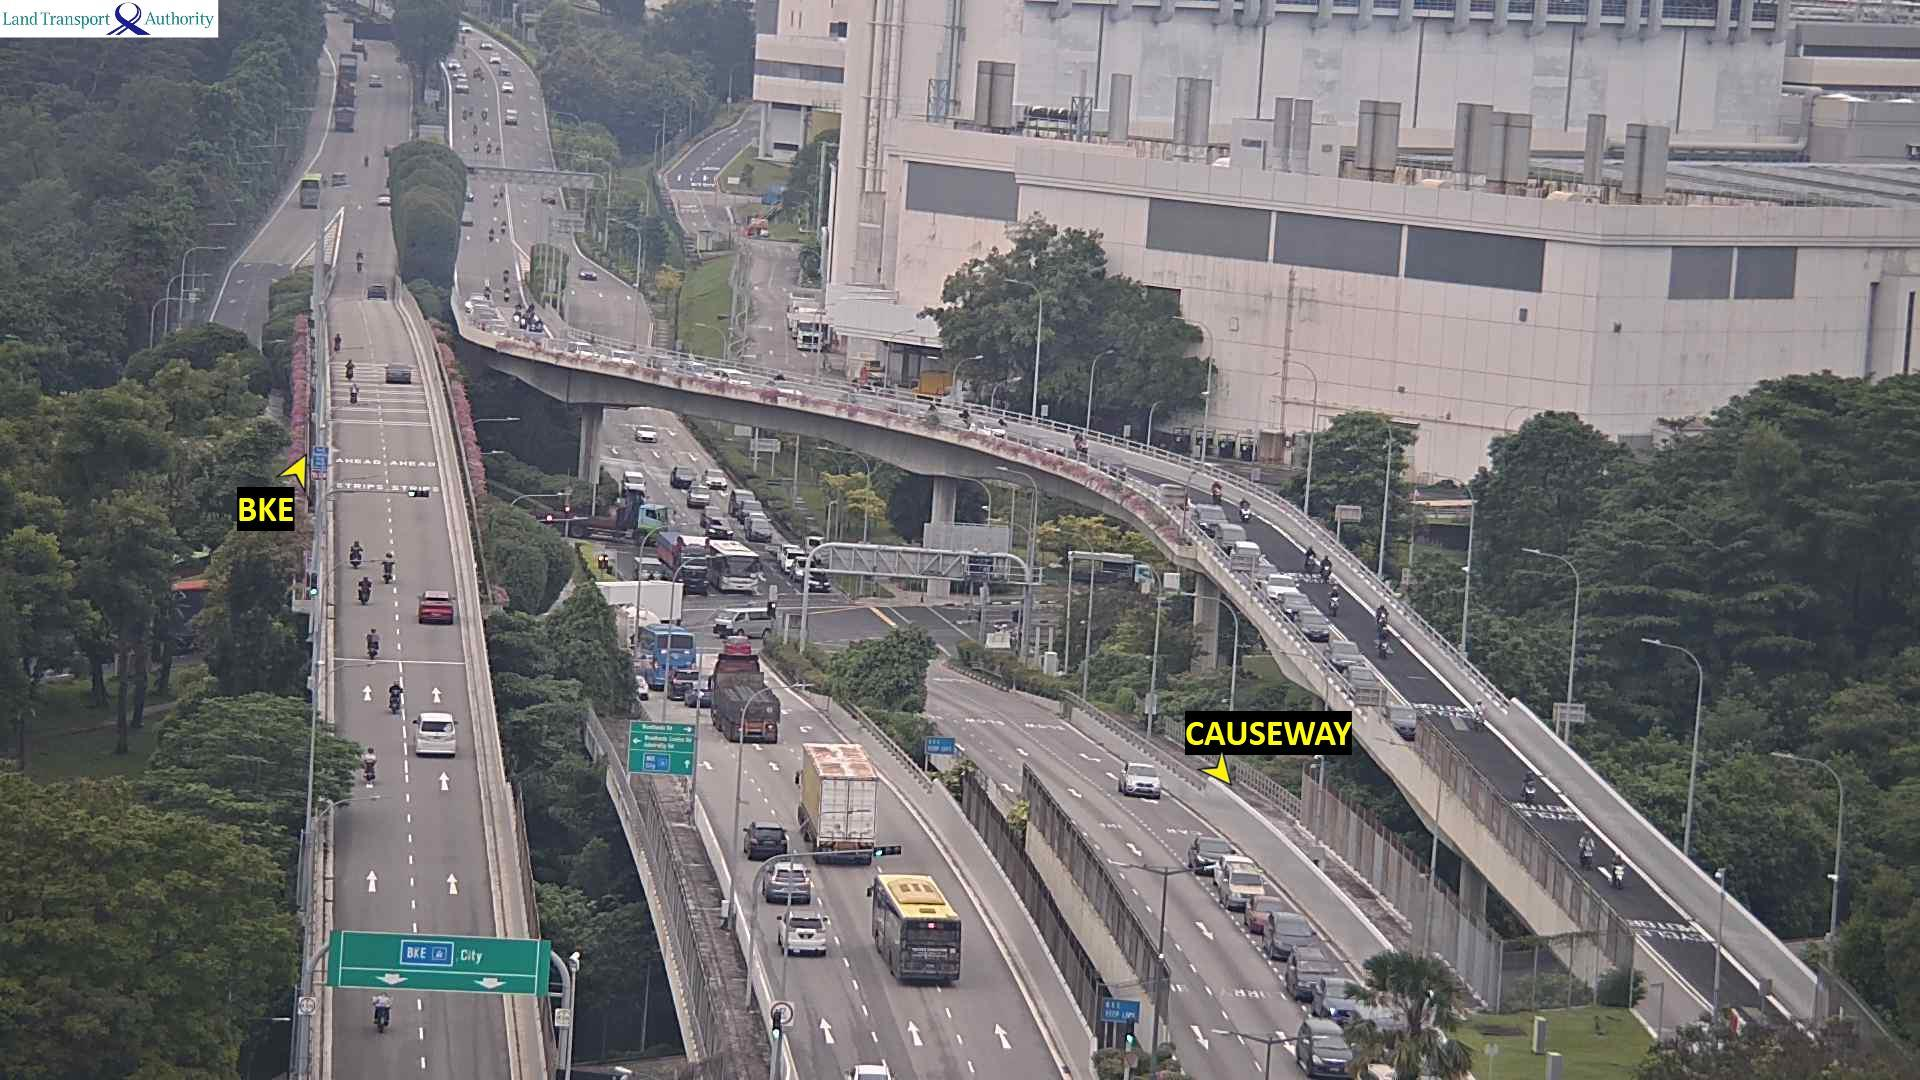vehicle-causeway-johor: (1294, 1019, 1357, 1080), (1259, 918, 1326, 964), (1217, 862, 1280, 910), (711, 540, 759, 591), (1281, 967, 1347, 1003), (1220, 541, 1276, 578), (1117, 766, 1165, 803), (1246, 903, 1297, 933), (1318, 981, 1363, 1014), (1293, 617, 1340, 642), (1190, 504, 1229, 534), (1188, 837, 1225, 868), (1384, 705, 1417, 736), (1346, 669, 1380, 699), (1327, 643, 1365, 669), (1261, 584, 1301, 608), (1159, 483, 1193, 510), (1217, 859, 1253, 878), (1099, 451, 1125, 477), (764, 379, 801, 397), (713, 367, 747, 385), (678, 360, 708, 379), (671, 462, 694, 486), (1217, 527, 1247, 545), (603, 348, 634, 365), (1579, 828, 1593, 863), (729, 490, 752, 511), (744, 520, 770, 538), (647, 354, 673, 371), (703, 470, 727, 488), (1611, 853, 1623, 888), (567, 341, 592, 357), (633, 424, 655, 442), (687, 486, 709, 504), (1473, 698, 1487, 726), (709, 519, 733, 535), (806, 571, 827, 589), (987, 420, 1006, 439), (785, 550, 803, 570), (1039, 439, 1062, 454), (793, 559, 811, 578), (740, 502, 762, 516), (1526, 773, 1536, 802), (1073, 434, 1088, 452), (920, 403, 935, 421), (1306, 547, 1317, 571), (778, 543, 795, 558), (476, 319, 503, 328), (1332, 589, 1342, 613), (956, 410, 969, 428), (1380, 632, 1391, 653), (703, 507, 719, 521), (1076, 442, 1089, 459), (1378, 603, 1389, 623), (1321, 556, 1331, 578), (1209, 480, 1220, 499), (546, 339, 562, 351), (471, 310, 492, 319), (469, 296, 486, 307), (1241, 497, 1249, 520), (509, 335, 531, 343), (488, 328, 510, 334), (524, 311, 533, 324), (534, 320, 540, 330), (504, 289, 509, 301), (514, 311, 518, 322), (486, 283, 489, 294), (505, 270, 509, 278)
vehicle-causeway-singapore: (865, 876, 959, 981), (803, 742, 871, 866), (719, 657, 777, 743), (631, 628, 704, 677), (758, 876, 820, 907), (785, 934, 839, 959), (748, 827, 791, 858), (669, 669, 701, 699), (412, 739, 456, 760), (415, 716, 453, 740), (419, 597, 452, 624), (847, 1066, 897, 1080), (367, 1000, 385, 1035), (386, 363, 412, 384), (688, 688, 711, 708), (363, 746, 375, 779), (381, 552, 392, 579), (391, 694, 403, 716), (356, 548, 370, 565), (364, 638, 373, 661), (368, 287, 379, 300), (345, 360, 353, 377), (350, 384, 357, 403), (334, 332, 341, 350)
